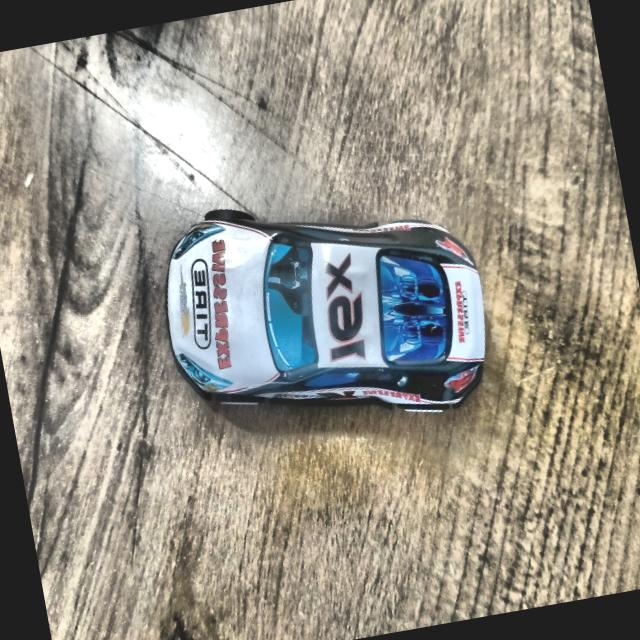Car: (145, 163, 513, 464)
